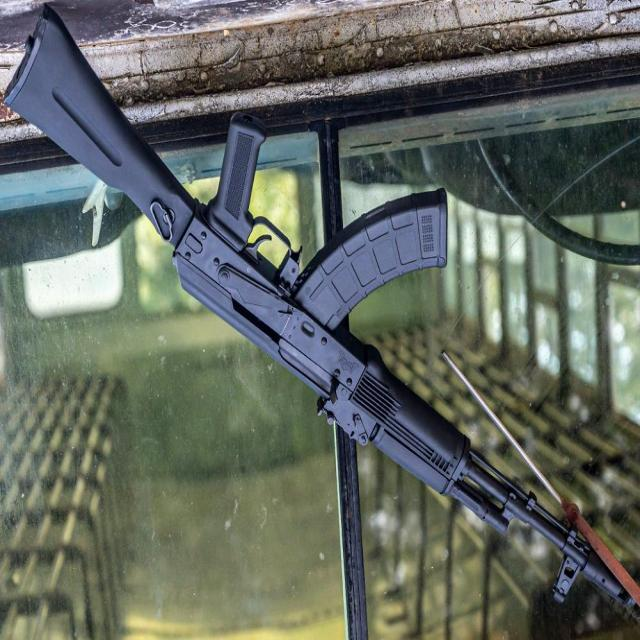weapon: (1, 4, 626, 603)
